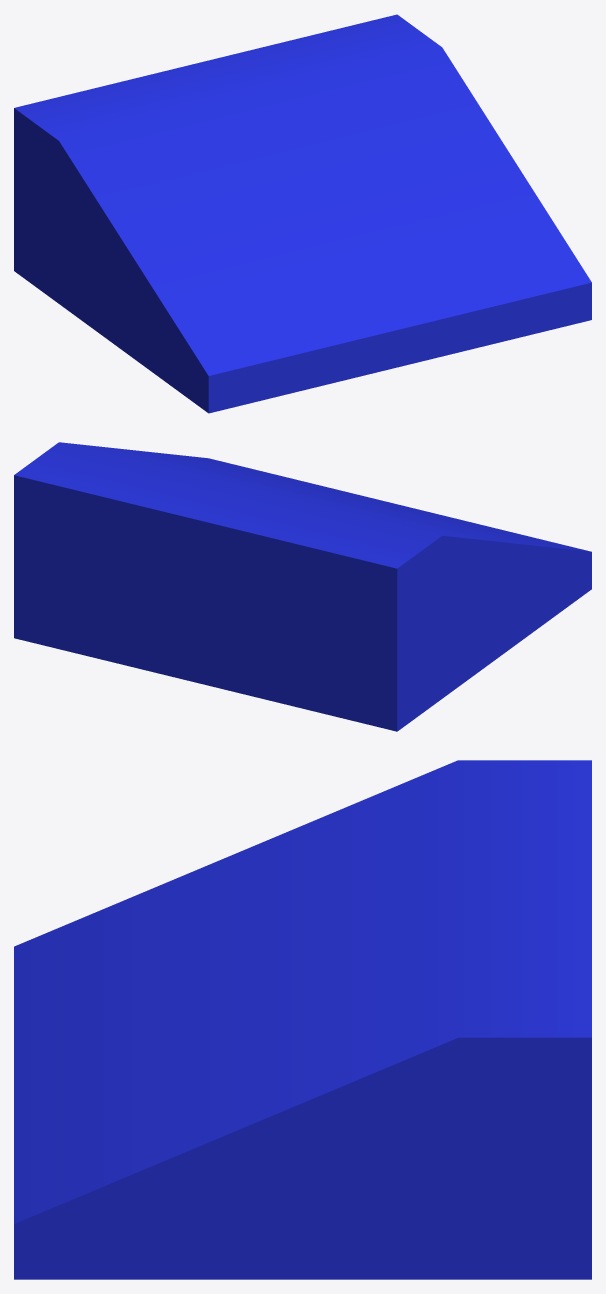
Rendered from ExteriorStairs_Collision.fbx.
The picture shows the model from 3 angles, top to bottom: view 1: azimuth 30°, elevation 25°; view 2: azimuth 150°, elevation 25°; view 3: azimuth 270°, elevation 25°; orthographic projection. The views are drawn at different scales.
Parts seen in each view (by area): view 1: ExteriorStairs_Collision; view 2: ExteriorStairs_Collision; view 3: ExteriorStairs_Collision.
Boxes of the visible parts, x1,y1,x2,y2 form: ExteriorStairs_Collision: [14, 14, 591, 413]; ExteriorStairs_Collision: [14, 442, 591, 731]; ExteriorStairs_Collision: [14, 760, 591, 1279].
Bounding box in the file's own units: 52.49 × 21.34 × 46.19.
